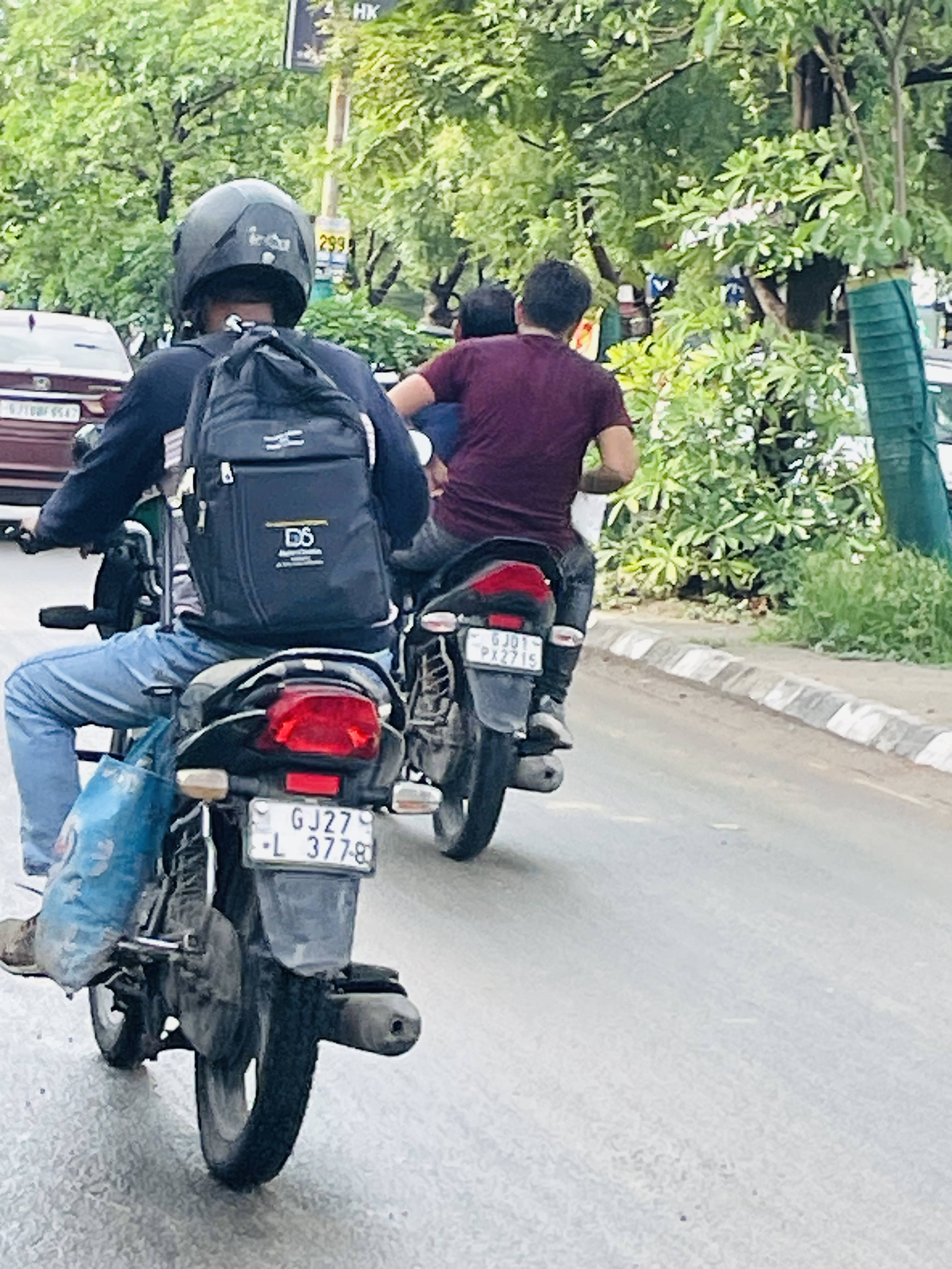BikeWithRider: (0, 164, 456, 1206), (366, 246, 651, 871)
Helmet: (153, 166, 328, 353)
NoHelmet: (509, 251, 601, 351), (447, 275, 528, 349)
